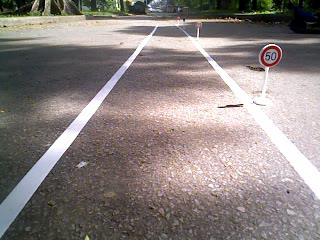limit 50: (257, 43, 285, 70)
